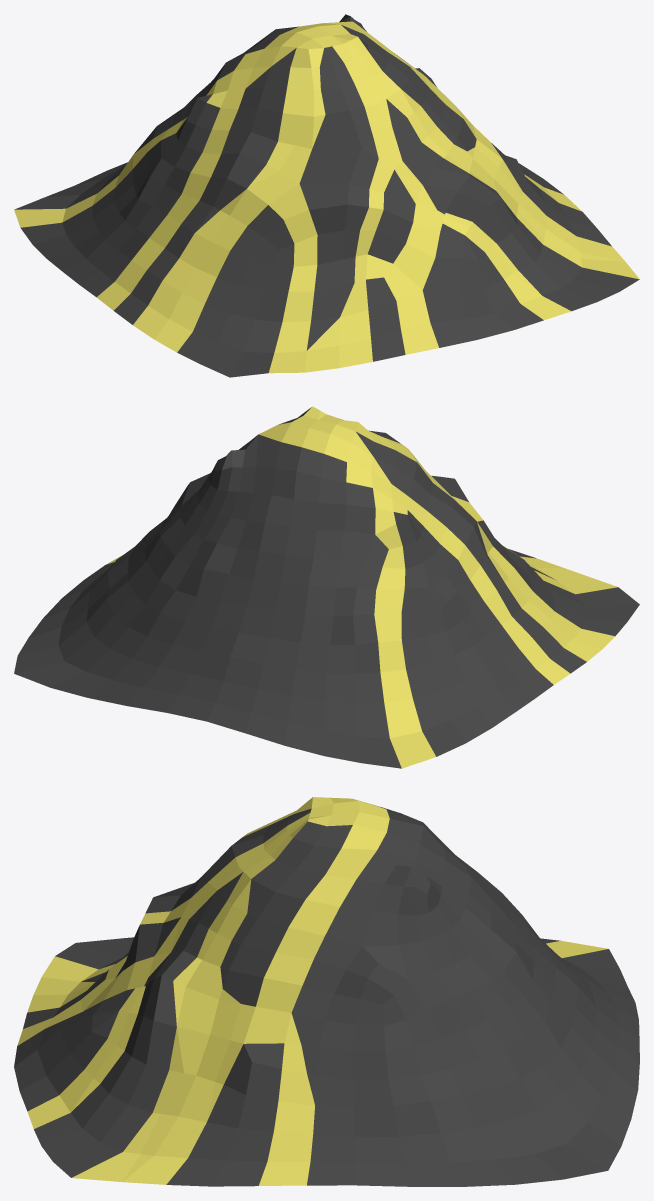
The model's file is Lava Mountain.fbx.
3 renders of one model, top to bottom at view 1: azimuth 30°, elevation 25°; view 2: azimuth 150°, elevation 25°; view 3: azimuth 270°, elevation 25°, orthographic. The views are drawn at different scales.
Parts seen in each view (by area): view 1: Lava Mountain; view 2: Lava Mountain; view 3: Lava Mountain.
Part boxes in pixels (bbox=[...]): Lava Mountain: bbox=[14, 14, 639, 377]; Lava Mountain: bbox=[14, 406, 639, 768]; Lava Mountain: bbox=[14, 797, 639, 1186].
Bounding box in the file's own units: 669 × 299 × 673.
